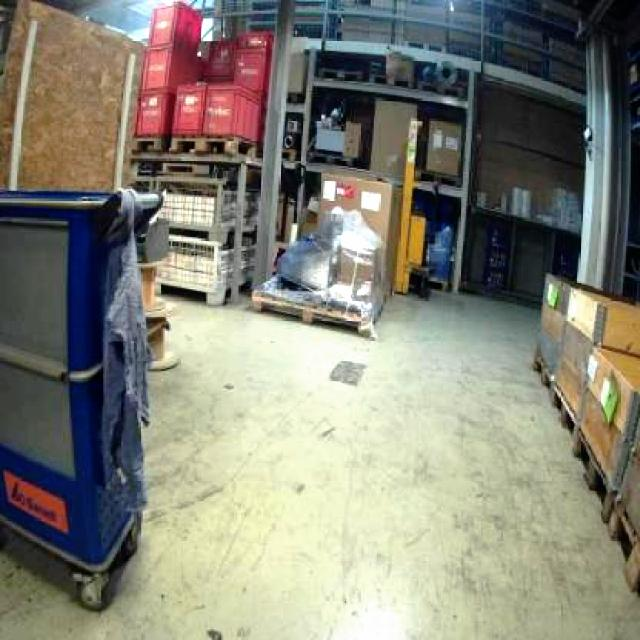ground: (0, 280, 638, 638)
pallet: (531, 269, 638, 637), (118, 0, 272, 158), (125, 135, 262, 305), (249, 223, 383, 337), (410, 107, 476, 196)
